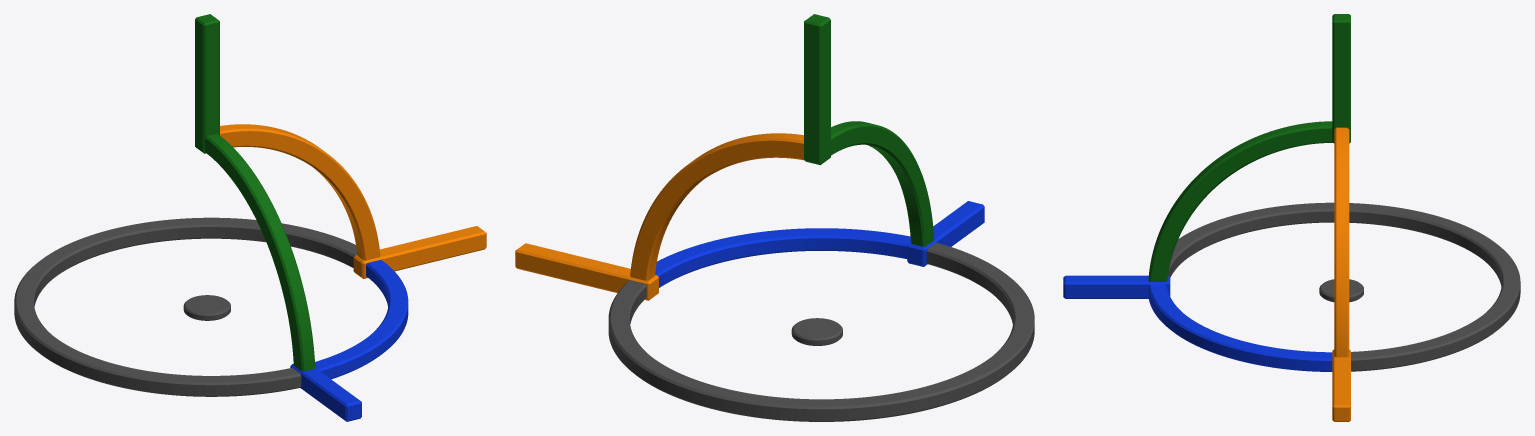
The model's file is cloud_anchor.fbx.
3 renders of one model, left to right at view 1: azimuth 30°, elevation 25°; view 2: azimuth 150°, elevation 25°; view 3: azimuth 270°, elevation 25°, orthographic. The views are drawn at different scales.
Visible parts, largest first — view 1: Cloud_anchor; view 2: Cloud_anchor; view 3: Cloud_anchor.
Part boxes in pixels (x1,y1,x2,y2): Cloud_anchor: (14, 14, 486, 421); Cloud_anchor: (515, 14, 1034, 421); Cloud_anchor: (1063, 14, 1520, 421).
Bounding box in the file's own units: 6.53 × 4.13 × 6.14.
